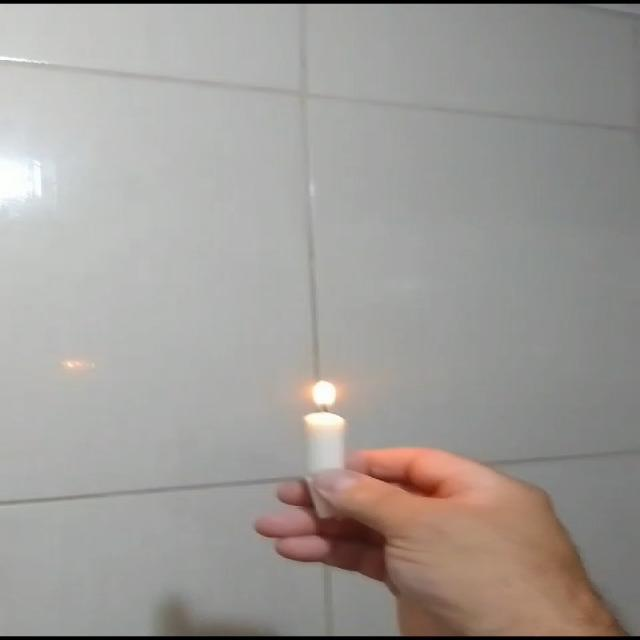fogo-ypXI: (306, 377, 340, 409)
